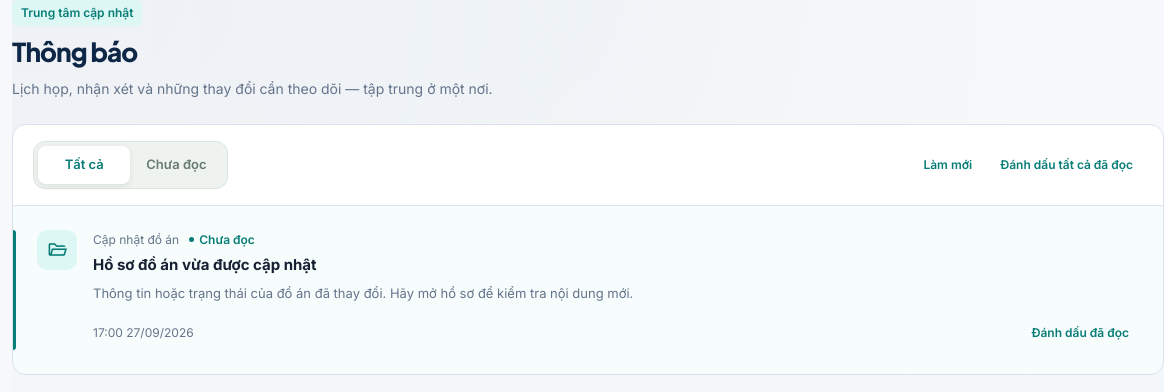
Test: NotificationsPage › does not display results from the previous filter when the new filter fails
The image size is (1164, 392).
Check: the heading "Hồ sơ đồ án vừa được cập nhật" is shown, box [93,255,316,274]
Step 1. Click the button "Chưa đọc" → (176, 165), box [130,146,223,184]
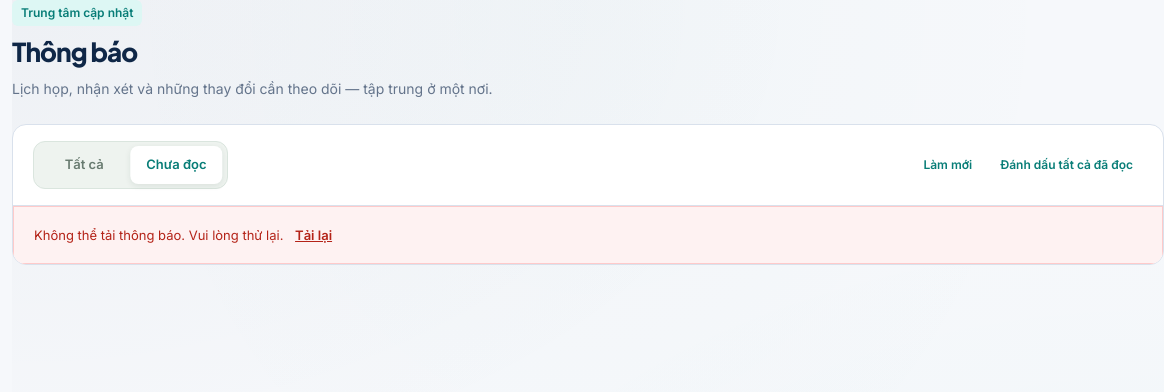
Check: the message "Không thể tải thông báo. Vui lòng thử lại. Tải lại" is shown, box [13,206,1163,264]
Check: the heading "Hồ sơ đồ án vừa được cập nhật" is gone
